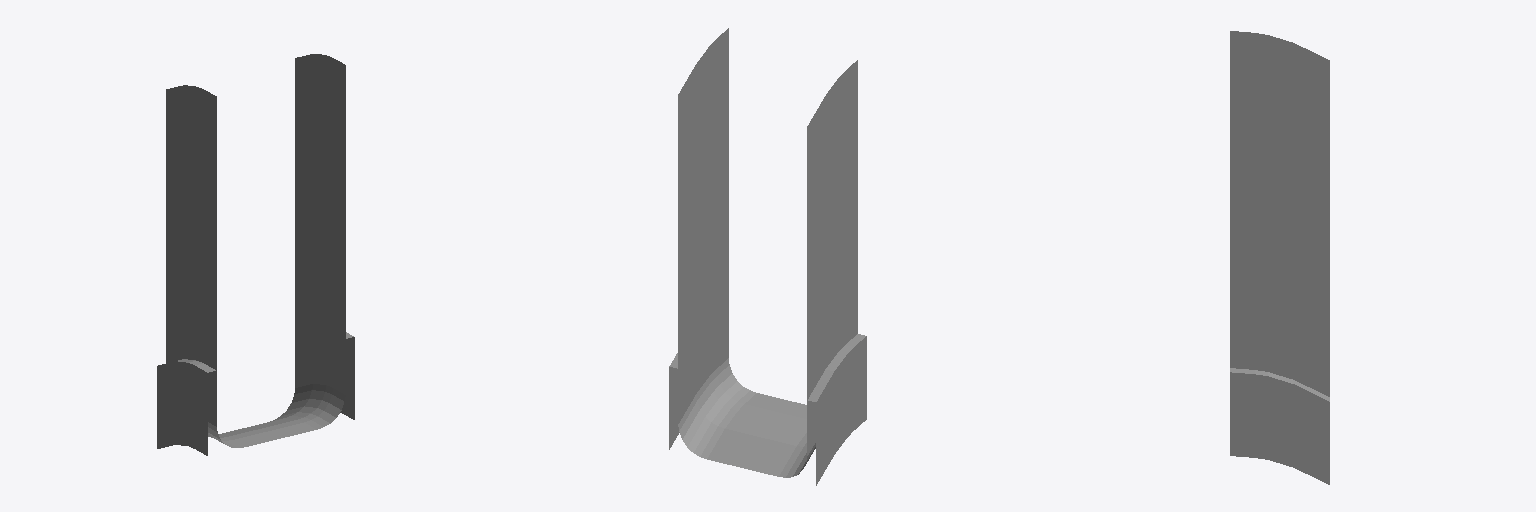
File: TrackPiece_Straight_Slope_Steep_End.obj
The picture shows the model from 3 angles: view 1: azimuth 30°, elevation 25°; view 2: azimuth 150°, elevation 25°; view 3: azimuth 270°, elevation 25°; orthographic projection.
Visible parts, largest first — view 1: TrackPiece_Straight_Hill_Steep_End_Cube.002; view 2: TrackPiece_Straight_Hill_Steep_End_Cube.002; view 3: TrackPiece_Straight_Hill_Steep_End_Cube.002.
Boxes of the visible parts, box(x1,y1,x2,y2) form: TrackPiece_Straight_Hill_Steep_End_Cube.002: box(157, 54, 354, 455); TrackPiece_Straight_Hill_Steep_End_Cube.002: box(669, 28, 866, 485); TrackPiece_Straight_Hill_Steep_End_Cube.002: box(1230, 31, 1329, 484).
Size of the model in its own units: 7.36 by 18.53 by 4.36.